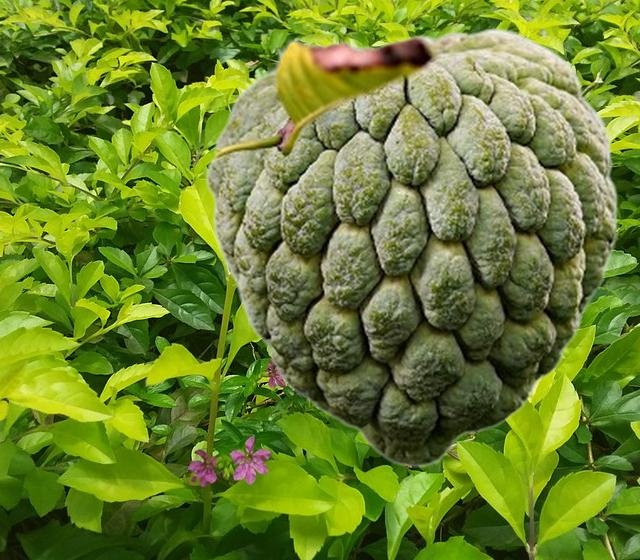atis: (204, 26, 617, 466)
